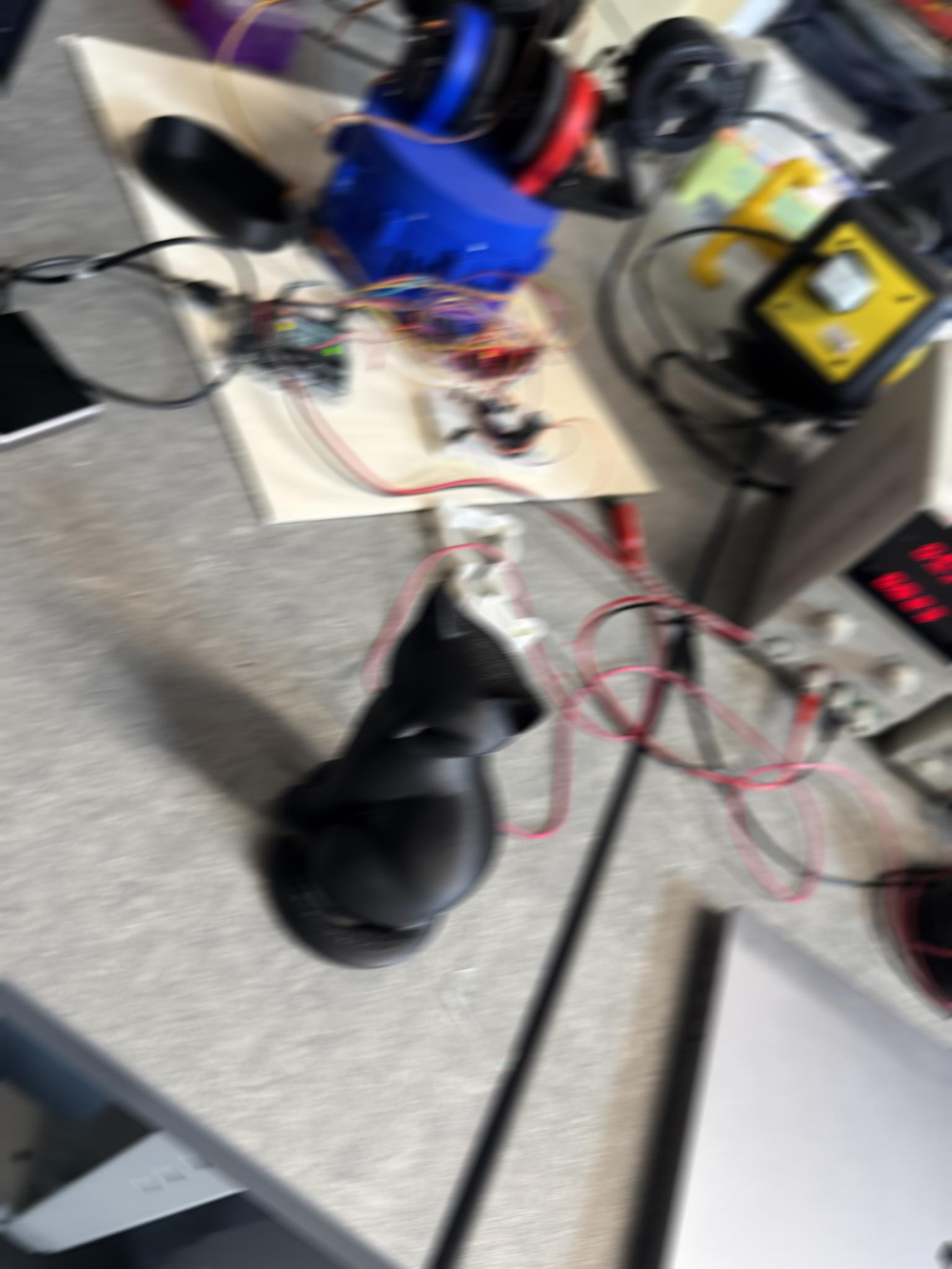cat: (263, 583, 549, 967)
